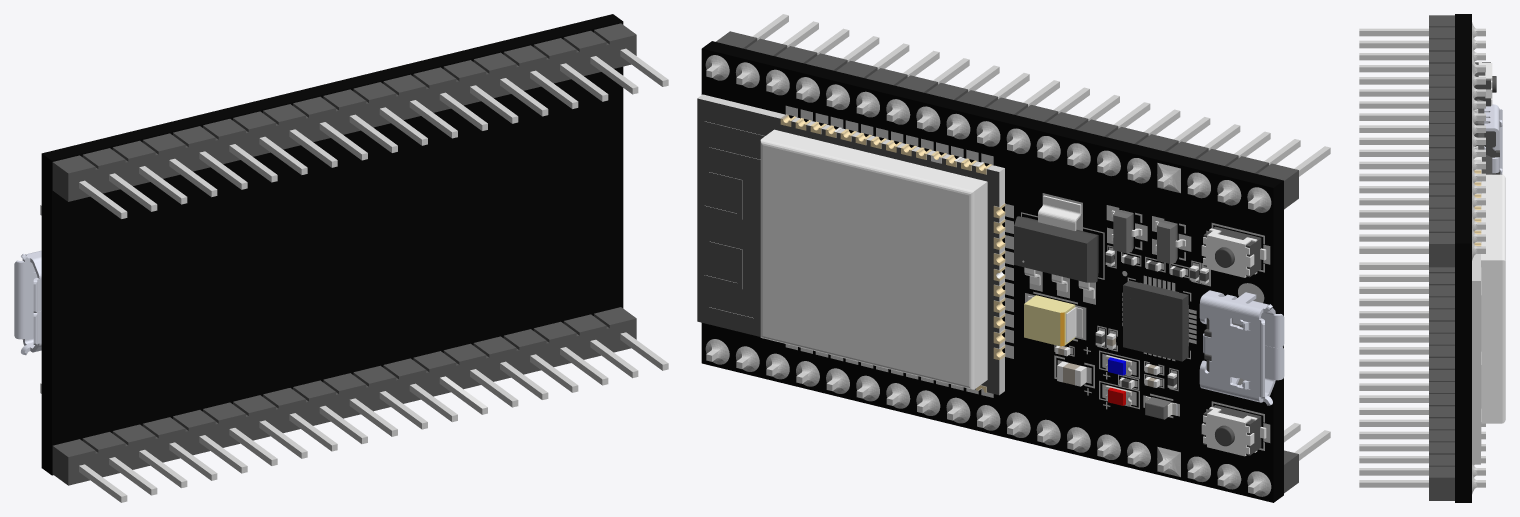
The model's file is esp32.glb.
3 views of the same model, side by side, from view 1: azimuth 30°, elevation 25°; view 2: azimuth 150°, elevation 25°; view 3: azimuth 270°, elevation 25° (orthographic). The views are drawn at different scales.
Parts seen in each view (by area): view 1: Node18, Node19, Node1, Node5; view 2: Node18, Node2, Node1, Node8, Node19, Node5, Node7, Node13, Node11, Node6, Node16, Node10; view 3: Node1, Node19, Node18, Node2, Node6, Node5, Node11, Node10, Node7, Node13.
Boxes of the visible parts, x1,y1,x2,y2 form: Node18: (41, 14, 623, 475); Node19: (52, 23, 636, 485); Node1: (79, 48, 668, 502); Node5: (14, 250, 41, 355); Node18: (701, 41, 1283, 502); Node2: (742, 127, 1266, 456); Node1: (705, 14, 1330, 496); Node8: (697, 98, 1188, 394); Node19: (716, 31, 1298, 493); Node5: (1176, 290, 1284, 415); Node7: (780, 115, 1005, 392); Node13: (1113, 210, 1177, 419); Node11: (1203, 226, 1261, 455); Node6: (697, 94, 1004, 394); Node16: (1024, 295, 1075, 346); Node10: (1095, 254, 1242, 388); Node1: (1359, 22, 1485, 493); Node19: (1429, 15, 1454, 500); Node18: (1455, 14, 1471, 502); Node2: (1359, 61, 1505, 423); Node6: (1472, 159, 1481, 464); Node5: (1484, 104, 1502, 174); Node11: (1474, 62, 1496, 106); Node10: (1484, 131, 1499, 174); Node7: (1474, 170, 1481, 245); Node13: (1474, 99, 1484, 149).
Bounding box in the file's own units: 49.05 × 25.4 × 13.
